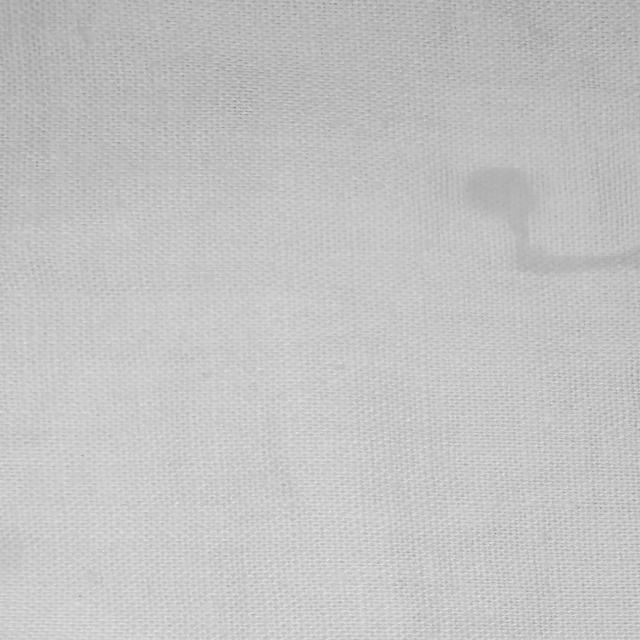Stain: (462, 162, 637, 277)
